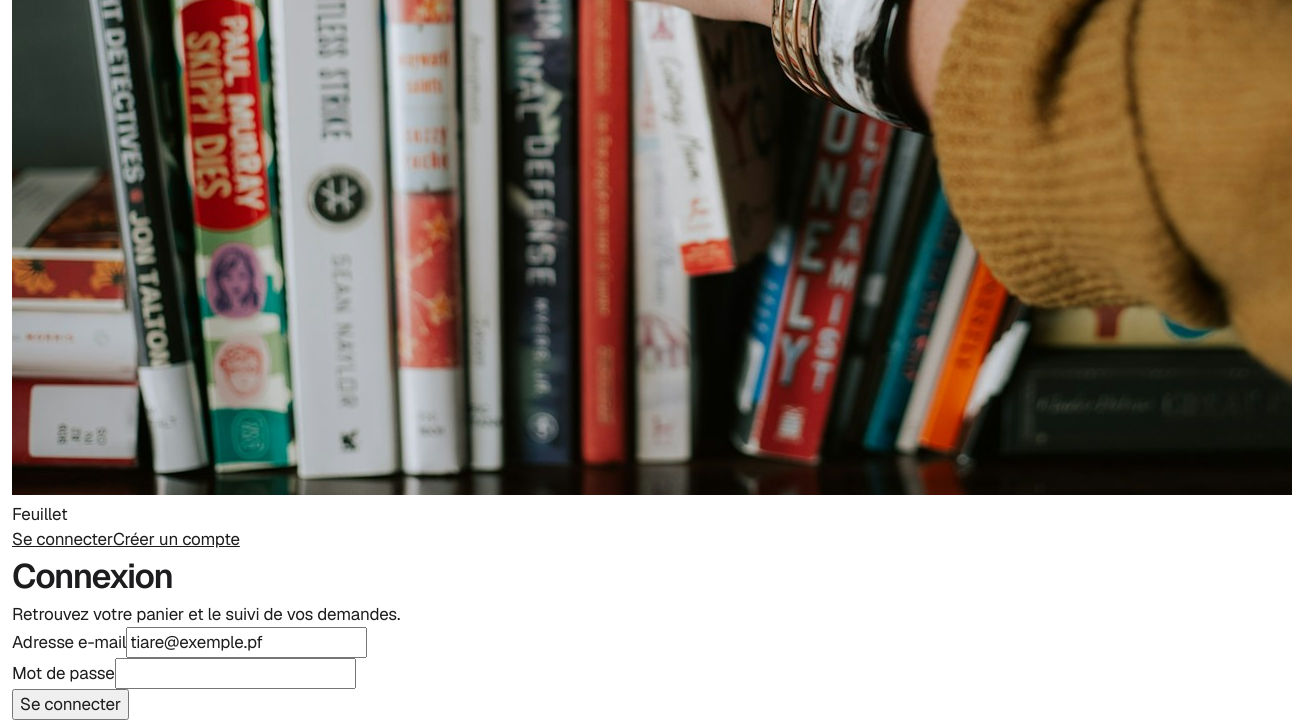
it: page de connexion › prévient quand le serveur est injoignable
Earlier steps of the test are not shown.
(page scrolled)
Type "motdepasse1" into the password field labelled "Mot de passe" at (235, 673), box [115,658,356,689]
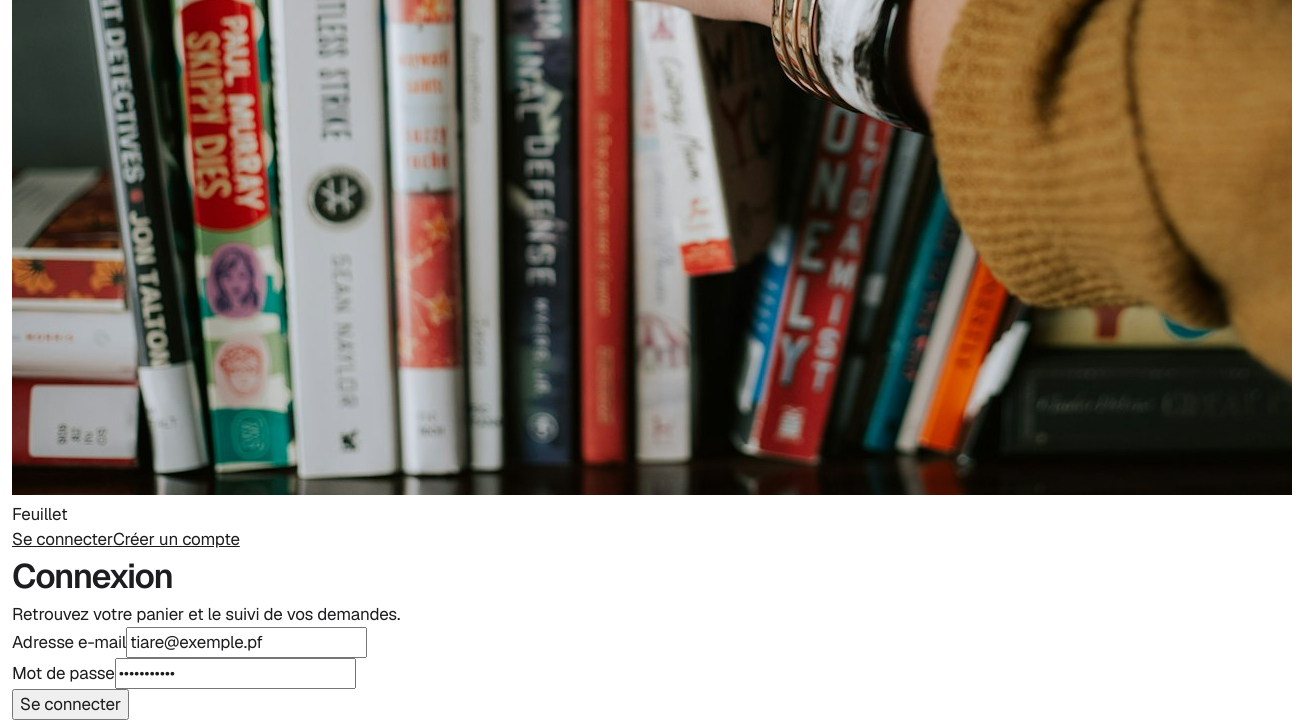
Click the button "Se connecter" at (70, 704), box [12,689,129,719]
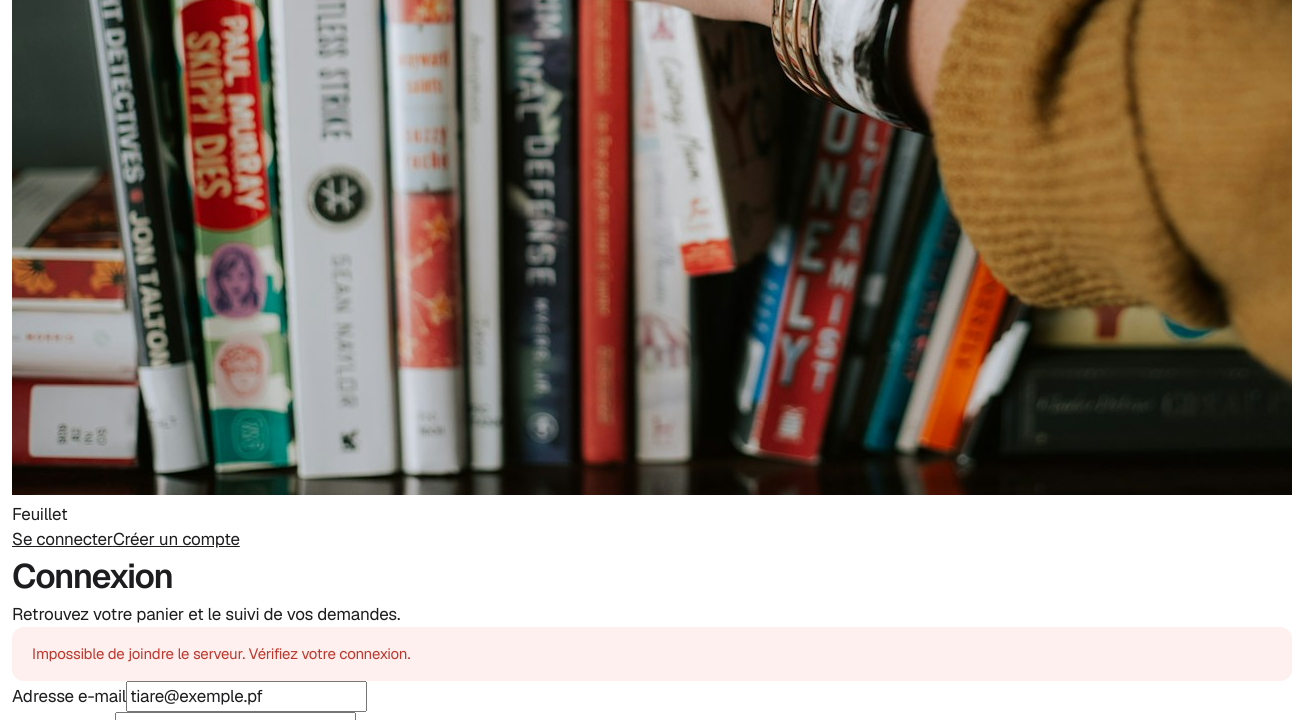
Expected: the message reads "Impossible de joindre le serveur. Vérifiez votre connexion.", [32,644,410,663]
